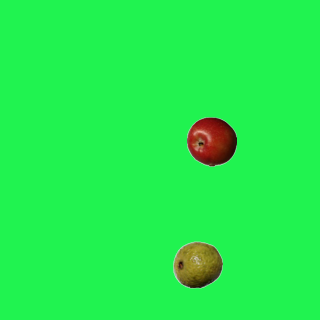Apple Braeburn: (186, 116, 236, 166)
Guava: (172, 239, 222, 289)
